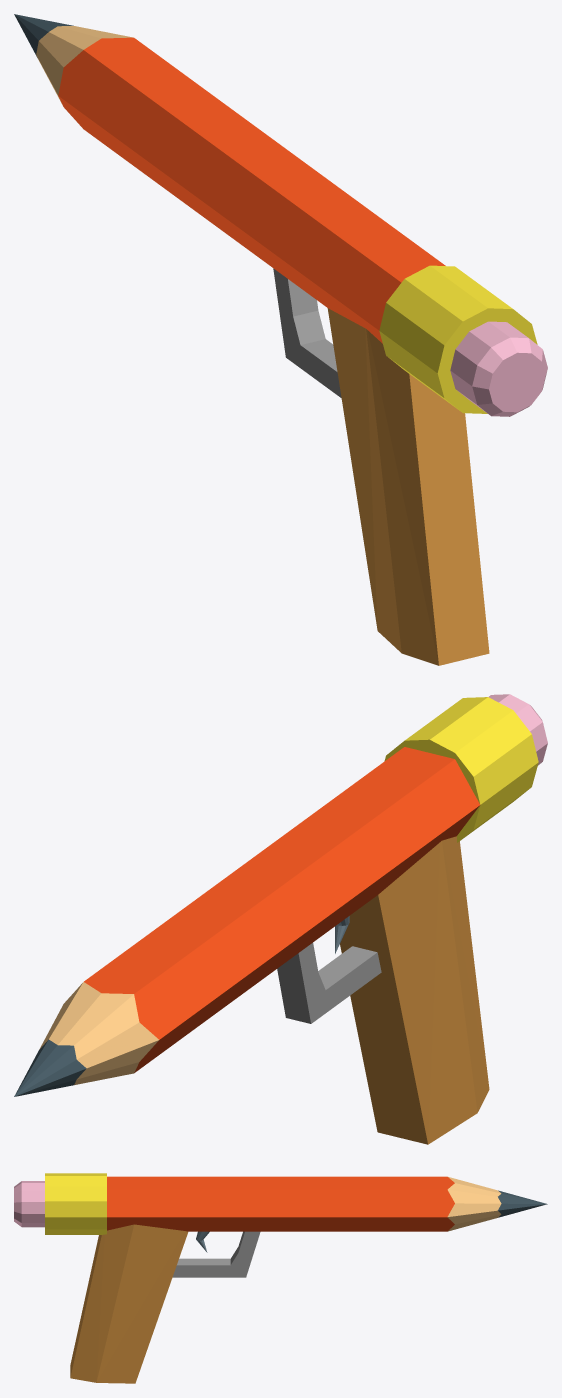
File: edit_tool.glb
3 views of the same model, one above another, from view 1: azimuth 30°, elevation 25°; view 2: azimuth 150°, elevation 25°; view 3: azimuth 270°, elevation 25° (orthographic). The views are drawn at different scales.
Visible parts, largest first — view 1: Asset3DLoader.sceneRoot; view 2: Asset3DLoader.sceneRoot; view 3: Asset3DLoader.sceneRoot.
Part boxes in pixels (x1=…): Asset3DLoader.sceneRoot: x1=14, y1=14, x2=547, y2=665; Asset3DLoader.sceneRoot: x1=14, y1=694, x2=547, y2=1144; Asset3DLoader.sceneRoot: x1=14, y1=1173, x2=547, y2=1383.
Size of the model in its own units: 0.0386 by 0.1385 by 0.3333.
